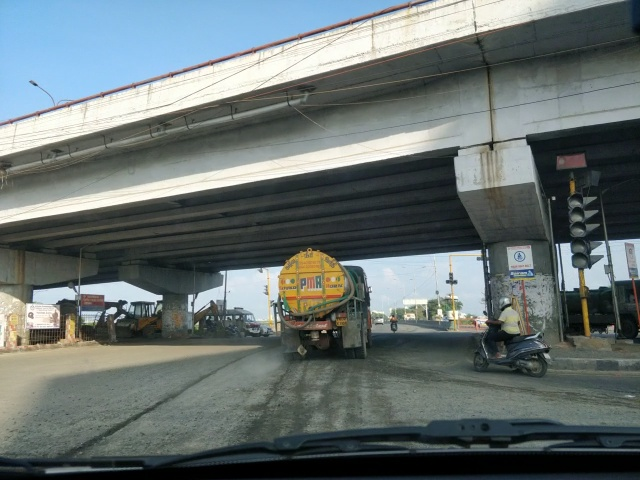motorbike: (477, 292, 553, 377), (216, 325, 246, 336), (391, 311, 399, 333)
tractor: (81, 295, 156, 335), (160, 297, 223, 334)
truck: (278, 251, 374, 361), (205, 308, 271, 342)
